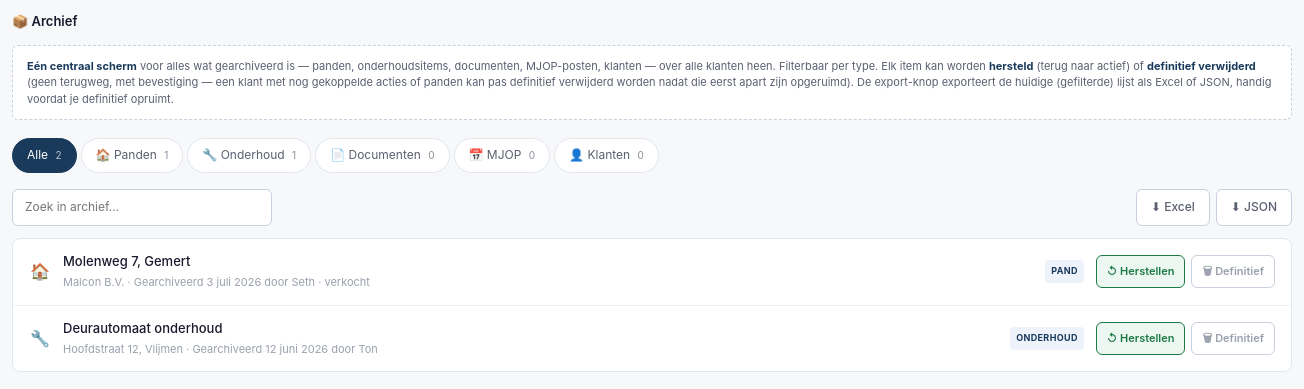
Test case: ArchiefPage › filtert op type via de filtertabs
The image size is (1304, 389).
What coordinates should you click on to do the following:
click the button "🏠 Panden 1"
I would click on:
 (132, 156)
Its box is [81,138,183,173].
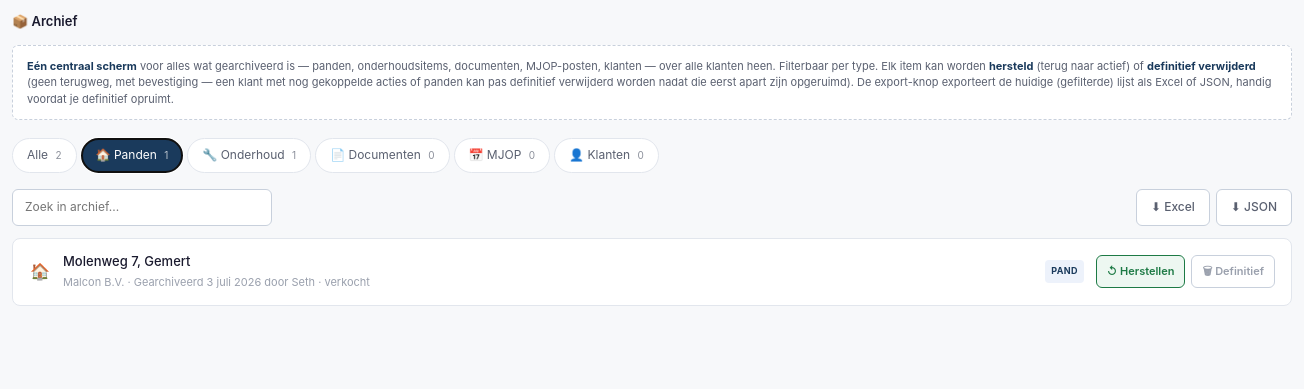
Expected: the text "Molenweg 7, Gemert" is shown, [63,253,190,269]
Result: the text "Deurautomaat onderhoud" is gone
